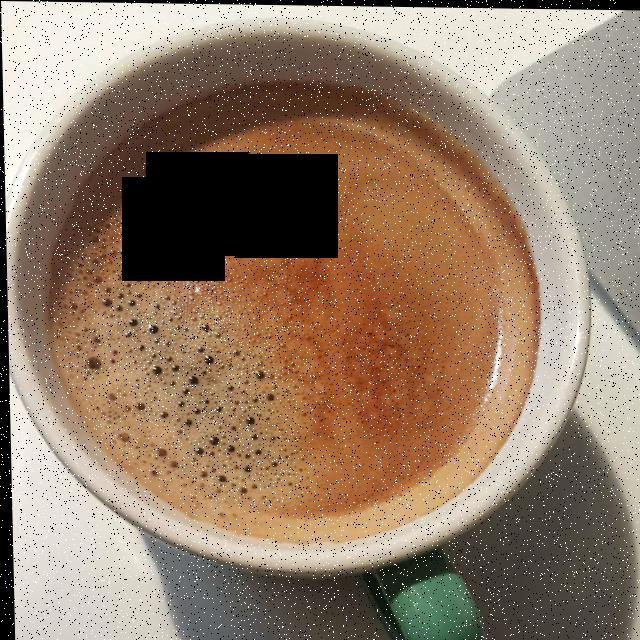coffee: (49, 104, 534, 530)
